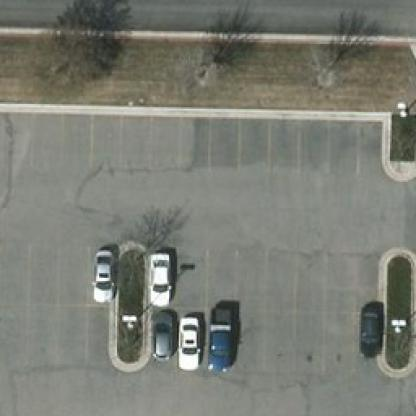car: (352, 299, 384, 356), (203, 312, 234, 369), (143, 250, 172, 304), (144, 310, 173, 364), (174, 314, 203, 368), (88, 249, 117, 302)
